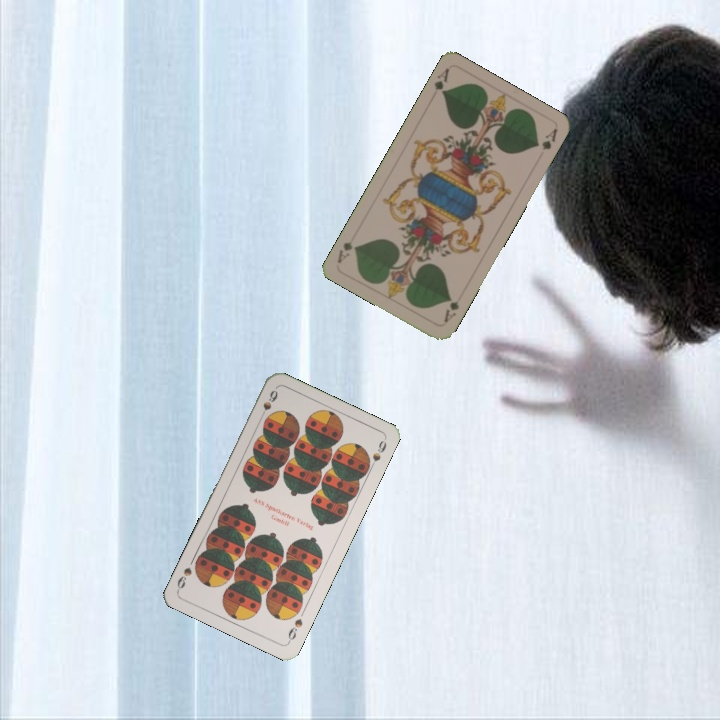GA: (430, 64, 452, 97), (440, 294, 462, 325)
S9: (255, 386, 281, 423), (284, 614, 305, 645)
